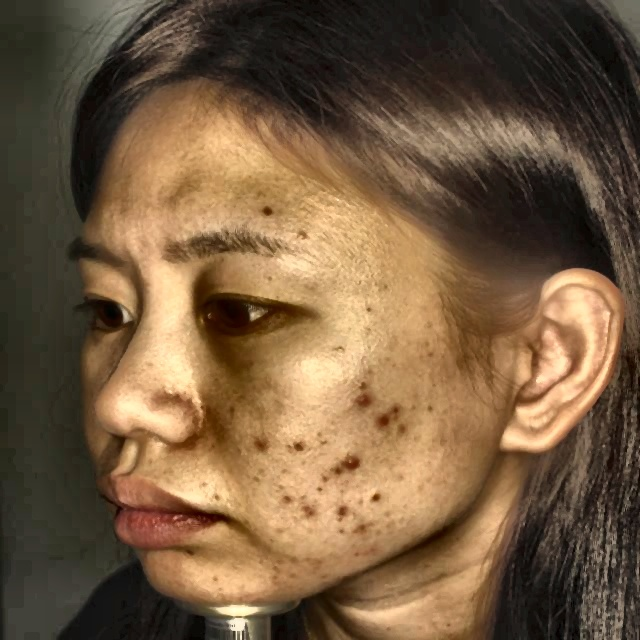pustule: (298, 499, 328, 526), (331, 500, 352, 528), (377, 406, 396, 432), (368, 486, 394, 505), (339, 454, 361, 475), (287, 432, 306, 454), (350, 384, 366, 410), (354, 519, 376, 536), (246, 438, 268, 452)
